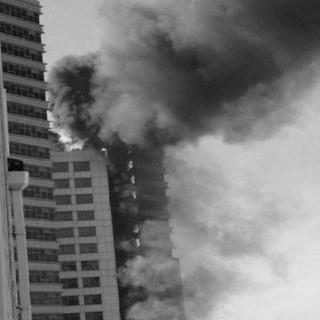Fire: (52, 123, 90, 151), (100, 146, 108, 156)
Smoke: (45, 1, 319, 127)
